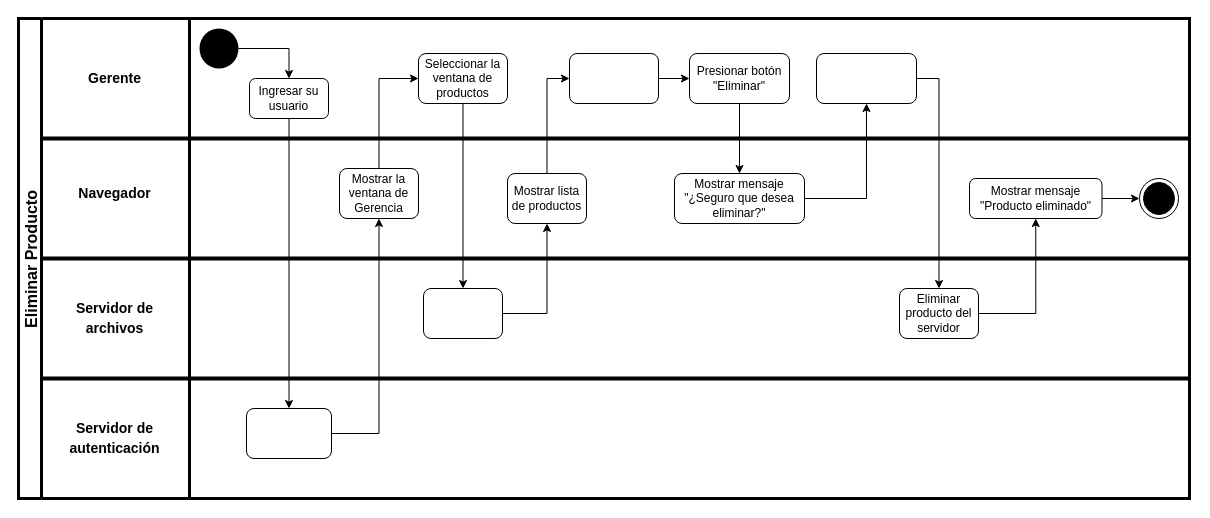
The diagram is 1210 pixels wide and 518 high, and some of its shapes have lost their labels. The centre of each missing label's shape, as x and y in pixels:
Autenticar los permisos de usuario: (289,433)
Consultar productos: (462,313)
Presionar botón "Si": (866,78)
Seleccionar un producto: (613,78)
